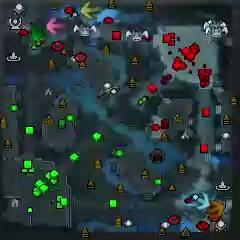x1: (47, 18, 66, 34)
x2: (80, 0, 103, 20)
x3: (194, 192, 209, 211)
x4: (30, 25, 46, 43)
x5: (209, 200, 224, 216)
